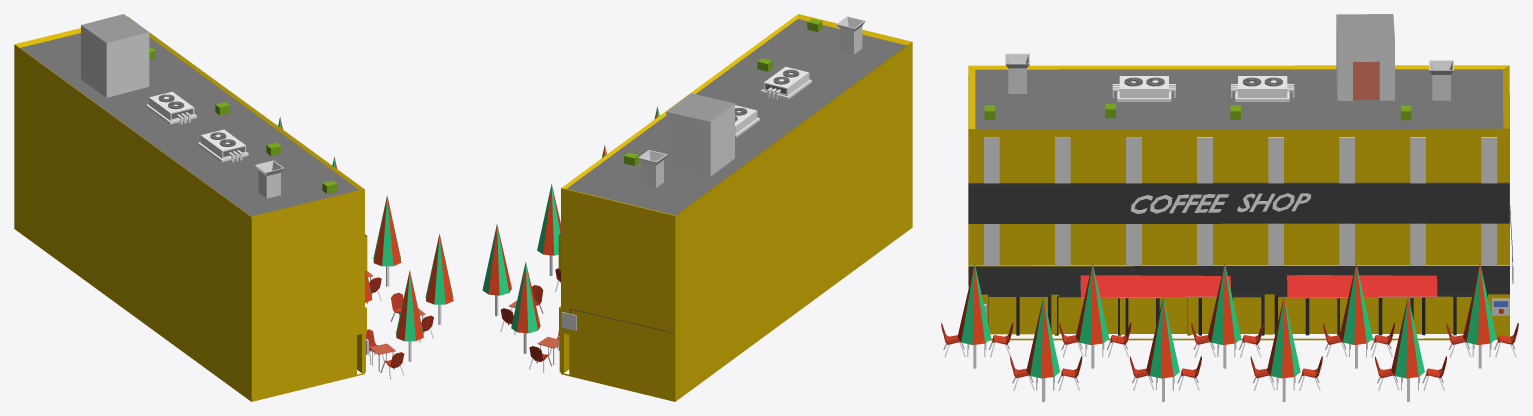
File: Cofee_Shop_tran.glb
The picture shows the model from 3 angles, left to right: view 1: azimuth 30°, elevation 25°; view 2: azimuth 150°, elevation 25°; view 3: azimuth 270°, elevation 25°; orthographic projection. The views are drawn at different scales.
Parts seen in each view (by area): view 1: Main_Building, Outer_Siting, Cube.6638, Cube.050, Cube.051, Cube.6635; view 2: Main_Building, Cube.6638, Outer_Siting, Cube.051, Cube.6635, Cube.6634, Cube.050, Cube.6626; view 3: Main_Building, Outer_Siting, Cube.6639, Cube.6638, Cube.6624, Cube.6623, Cube.050, Cube.051, Cube.6635, Cube.6634.
Boxes of the visible parts, x1,y1,x2,y2 form: Main_Building: (14, 17, 367, 401); Outer_Siting: (278, 116, 453, 379); Cube.6638: (81, 14, 149, 97); Cube.050: (146, 91, 196, 124); Cube.051: (198, 129, 248, 162); Cube.6635: (255, 160, 284, 198); Main_Building: (558, 14, 912, 401); Cube.6638: (666, 93, 734, 176); Outer_Siting: (482, 106, 659, 372); Cube.051: (761, 66, 811, 99); Cube.6635: (836, 16, 865, 54); Cube.6634: (638, 150, 667, 187); Cube.050: (735, 105, 759, 137); Cube.6626: (561, 308, 673, 332); Main_Building: (968, 65, 1509, 340); Outer_Siting: (941, 263, 1518, 401); Cube.6639: (984, 137, 1497, 265); Cube.6638: (1336, 14, 1394, 100); Cube.6624: (1287, 275, 1437, 298); Cube.6623: (1080, 275, 1230, 298); Cube.050: (1231, 76, 1294, 101); Cube.051: (1112, 76, 1175, 101); Cube.6635: (1005, 53, 1029, 93); Cube.6634: (1429, 60, 1453, 100).
Bounding box in the file's own units: 0.2468 × 0.2396 × 0.4607.
